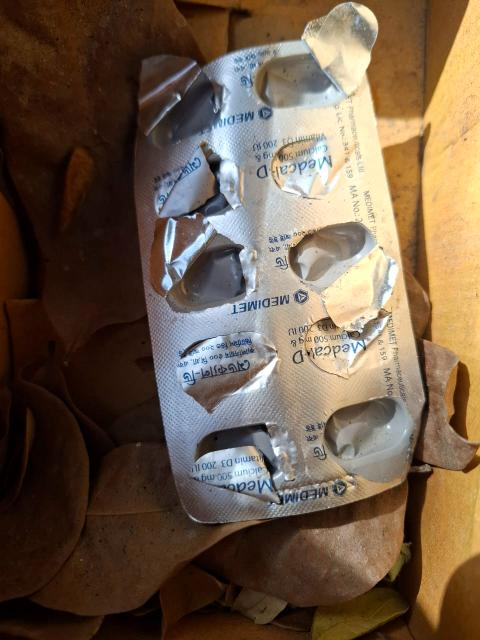medicine: (101, 24, 432, 536)
